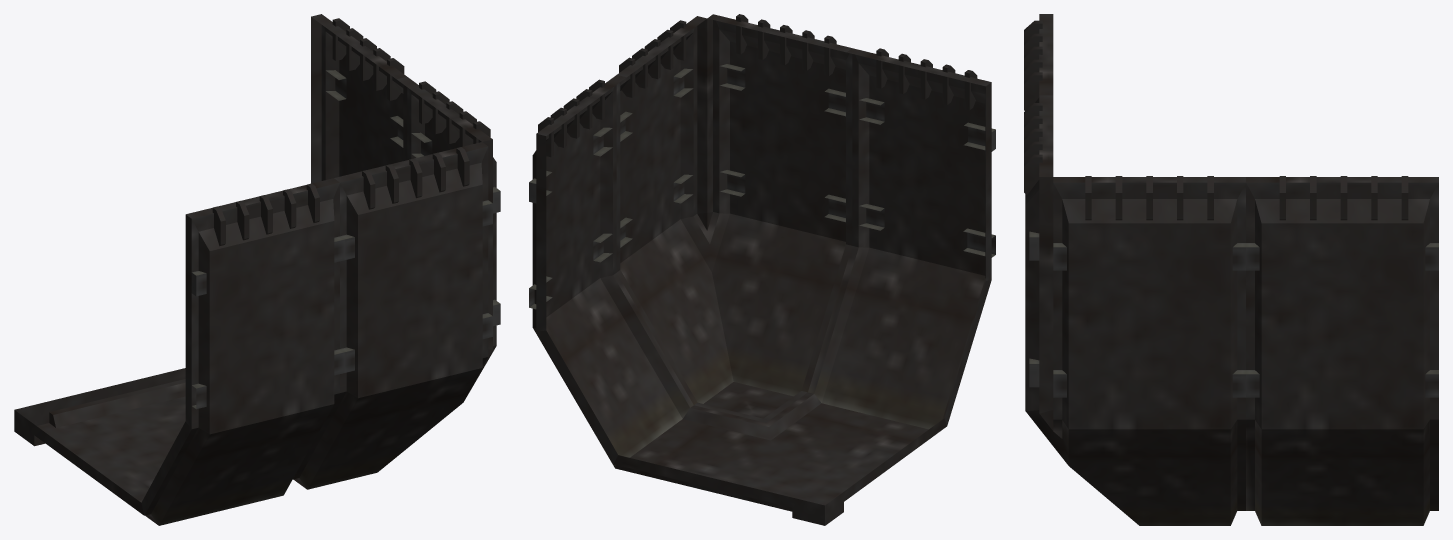
File: Wall_external_1_corner_in.FBX
3 renders of one model, left to right at view 1: azimuth 30°, elevation 25°; view 2: azimuth 150°, elevation 25°; view 3: azimuth 270°, elevation 25°, orthographic. The views are drawn at different scales.
Visible parts, largest first — view 1: Wall_external_1_corner_in; view 2: Wall_external_1_corner_in; view 3: Wall_external_1_corner_in.
Boxes of the visible parts, x1,y1,x2,y2 form: Wall_external_1_corner_in: (14,14,500,525); Wall_external_1_corner_in: (529,14,995,525); Wall_external_1_corner_in: (1024,14,1438,525).
Size of the model in its own units: 323 by 336 by 323.
